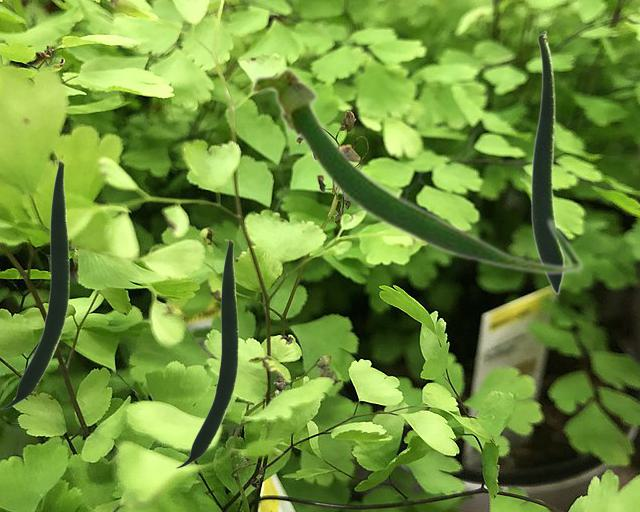french_bean: (247, 64, 584, 276), (0, 160, 68, 408), (175, 239, 237, 467), (530, 30, 564, 294)
